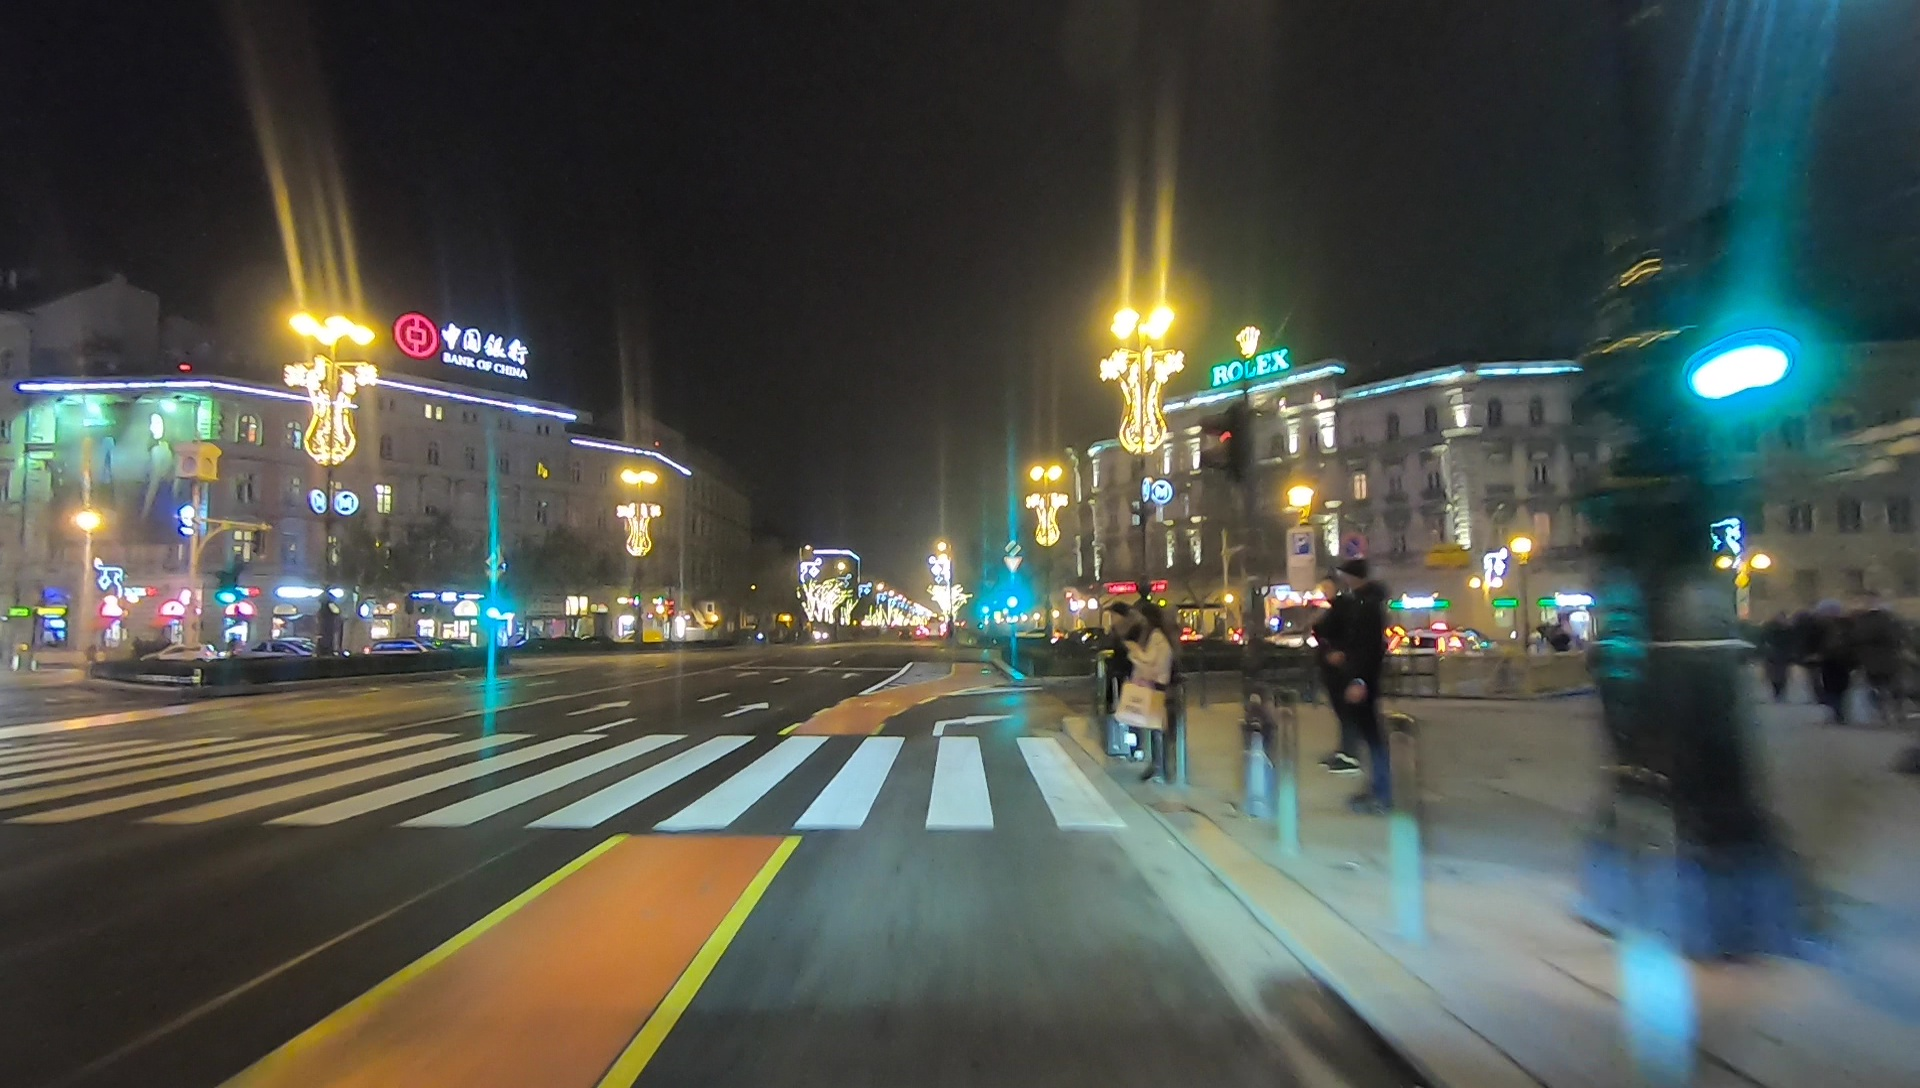person: (1334, 560, 1401, 806), (1123, 600, 1175, 786), (1312, 604, 1365, 776), (1097, 600, 1138, 771)
